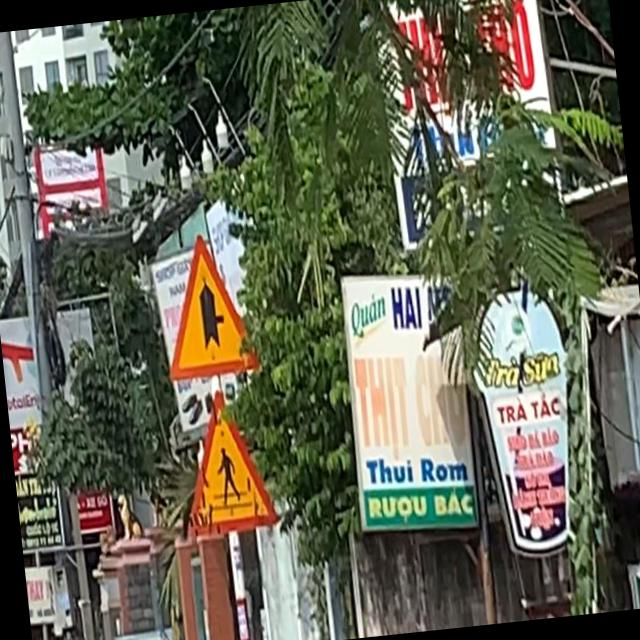W-207b: (153, 231, 260, 380)
W-224: (175, 385, 278, 536)
